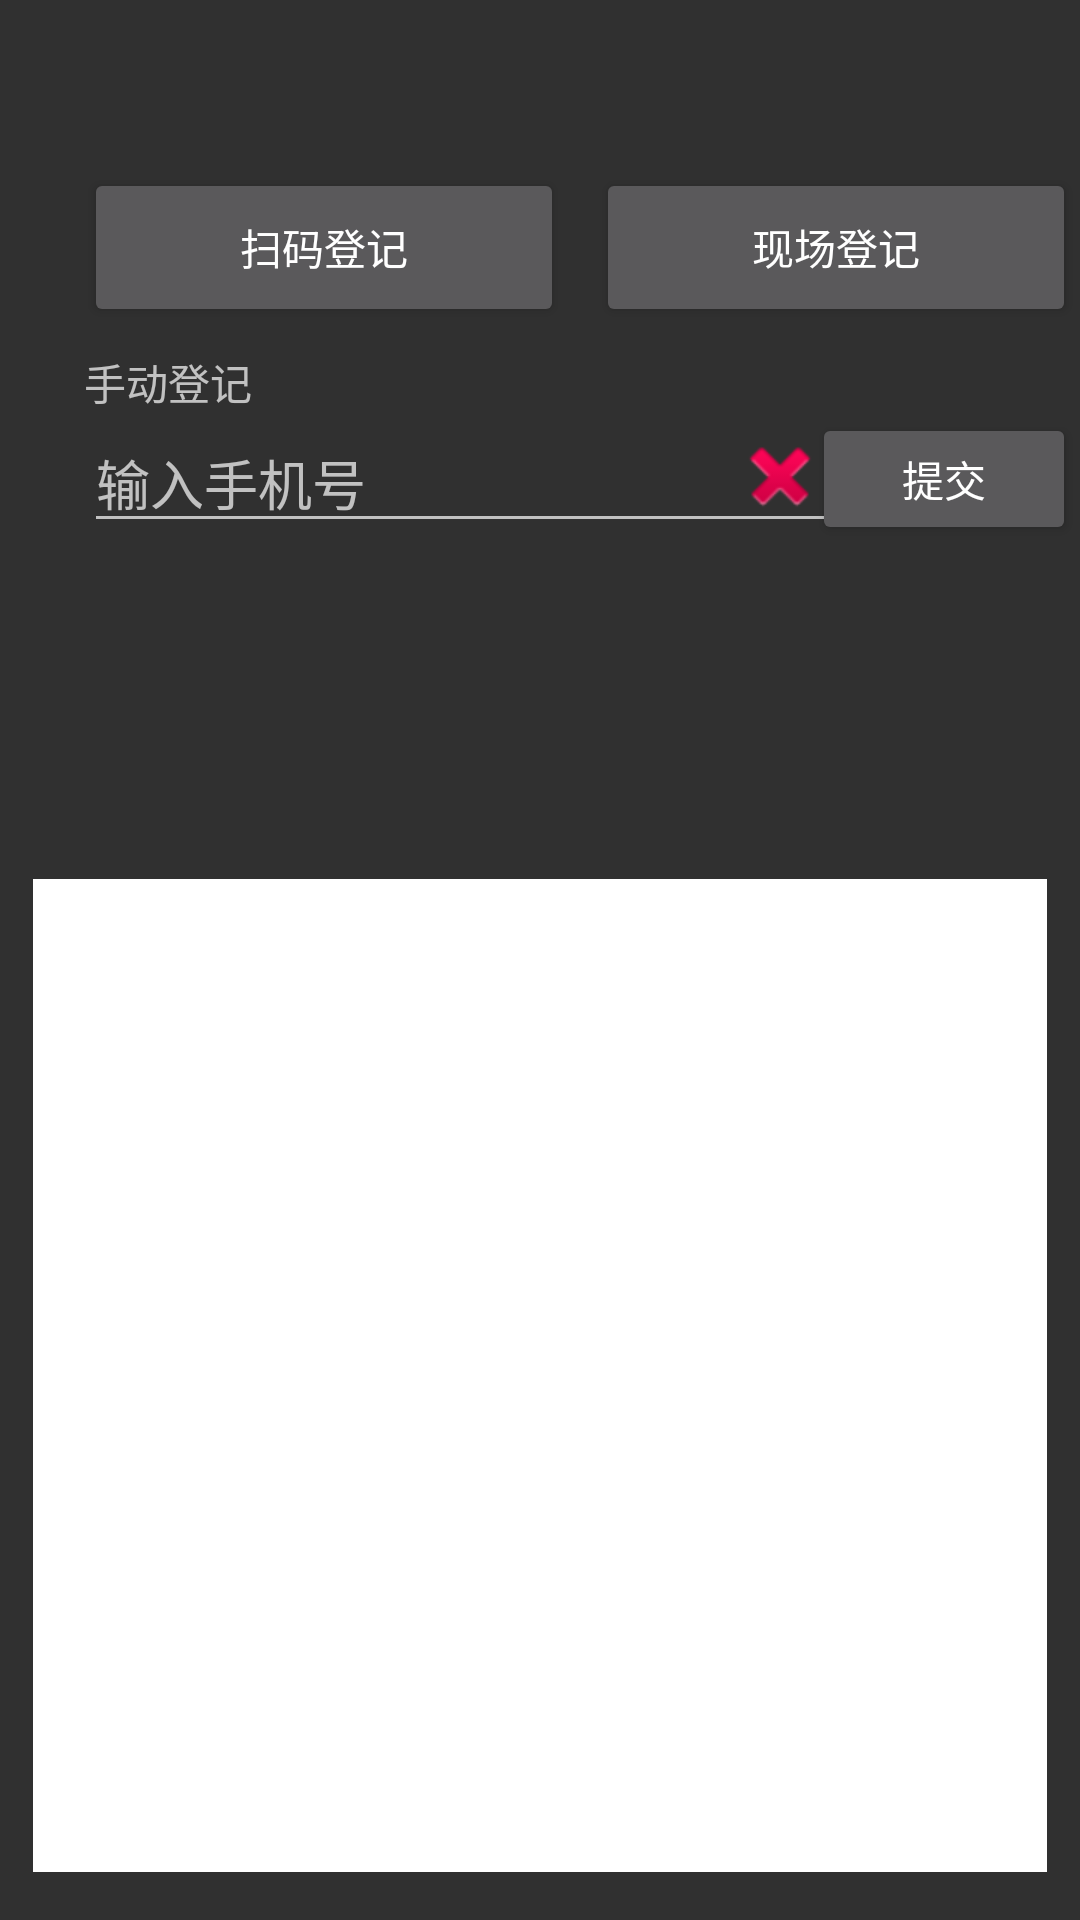

Icon click points for this 1080*1920 phone screenshot, format [x,y]:
delete: [780,476]
